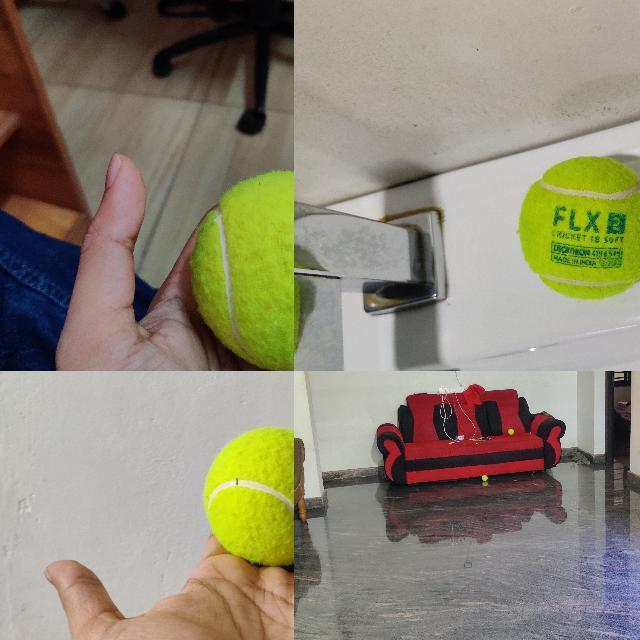tennis-ball: (190, 171, 293, 370), (516, 156, 639, 300), (202, 426, 293, 567), (508, 428, 514, 434), (481, 475, 487, 481)
